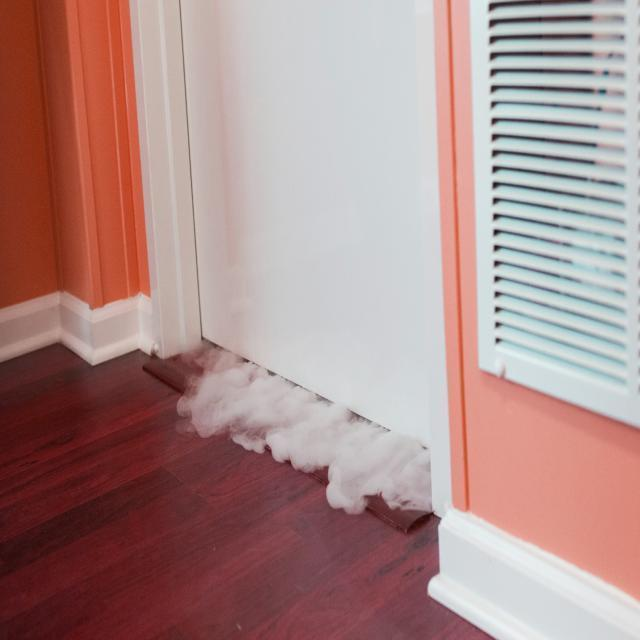fire: (168, 335, 436, 520)
